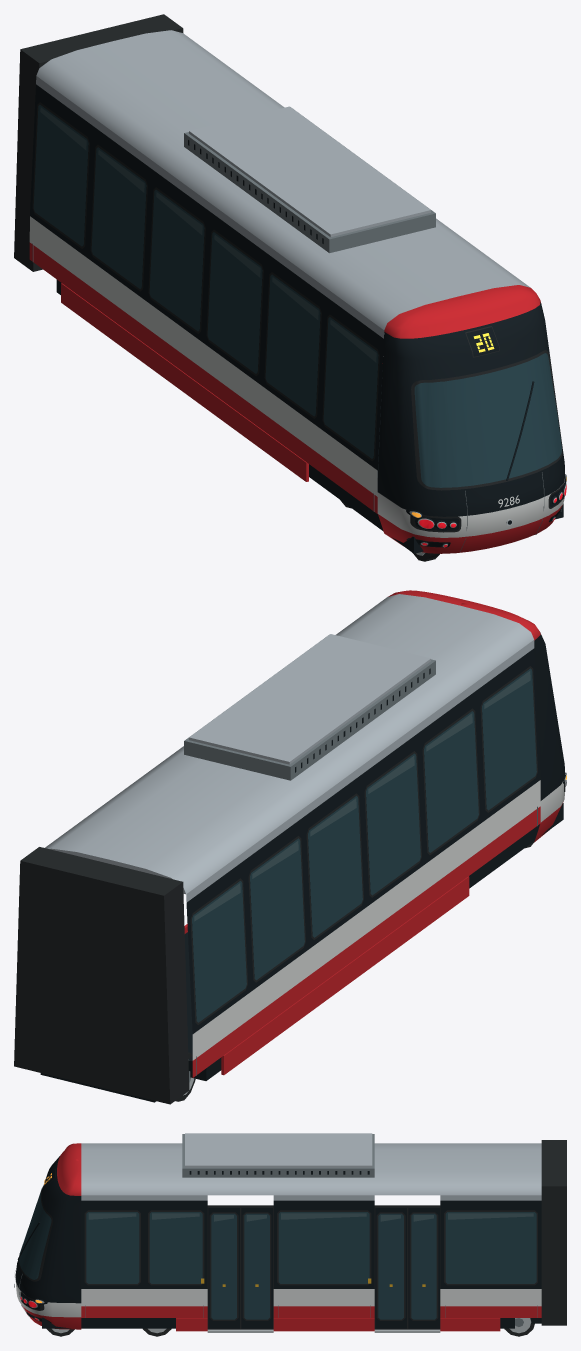
Rendered from 15t-c-viewer.glb.
3 views of the same model, one above another, from view 1: azimuth 30°, elevation 25°; view 2: azimuth 150°, elevation 25°; view 3: azimuth 270°, elevation 25° (orthographic). The views are drawn at different scales.
Visible parts, largest first — view 1: 15t-c; view 2: 15t-c; view 3: 15t-c, 15t-c-door-1-0.750-0, 15t-c-door-1-0.750-1, 15t-c-door-1--2.550-0, 15t-c-door-1--2.550-1.
Boxes of the visible parts, bbox=[...] form: 15t-c: bbox=[14, 14, 566, 561]; 15t-c: bbox=[14, 590, 566, 1104]; 15t-c: bbox=[14, 1133, 566, 1336]; 15t-c-door-1-0.750-0: bbox=[241, 1207, 272, 1328]; 15t-c-door-1-0.750-1: bbox=[208, 1207, 239, 1328]; 15t-c-door-1--2.550-0: bbox=[408, 1207, 439, 1328]; 15t-c-door-1--2.550-1: bbox=[375, 1207, 406, 1328].
Size of the model in its own units: 2.55 by 3.69 by 10.93.
